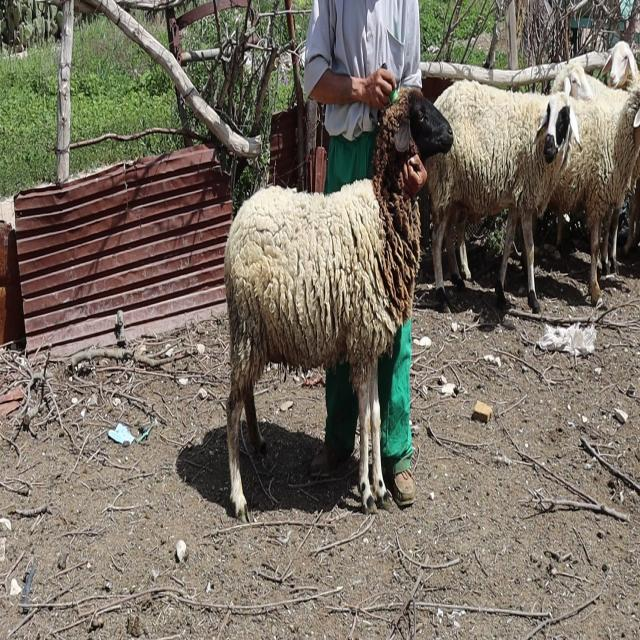Score_3: (224, 89, 453, 520)
